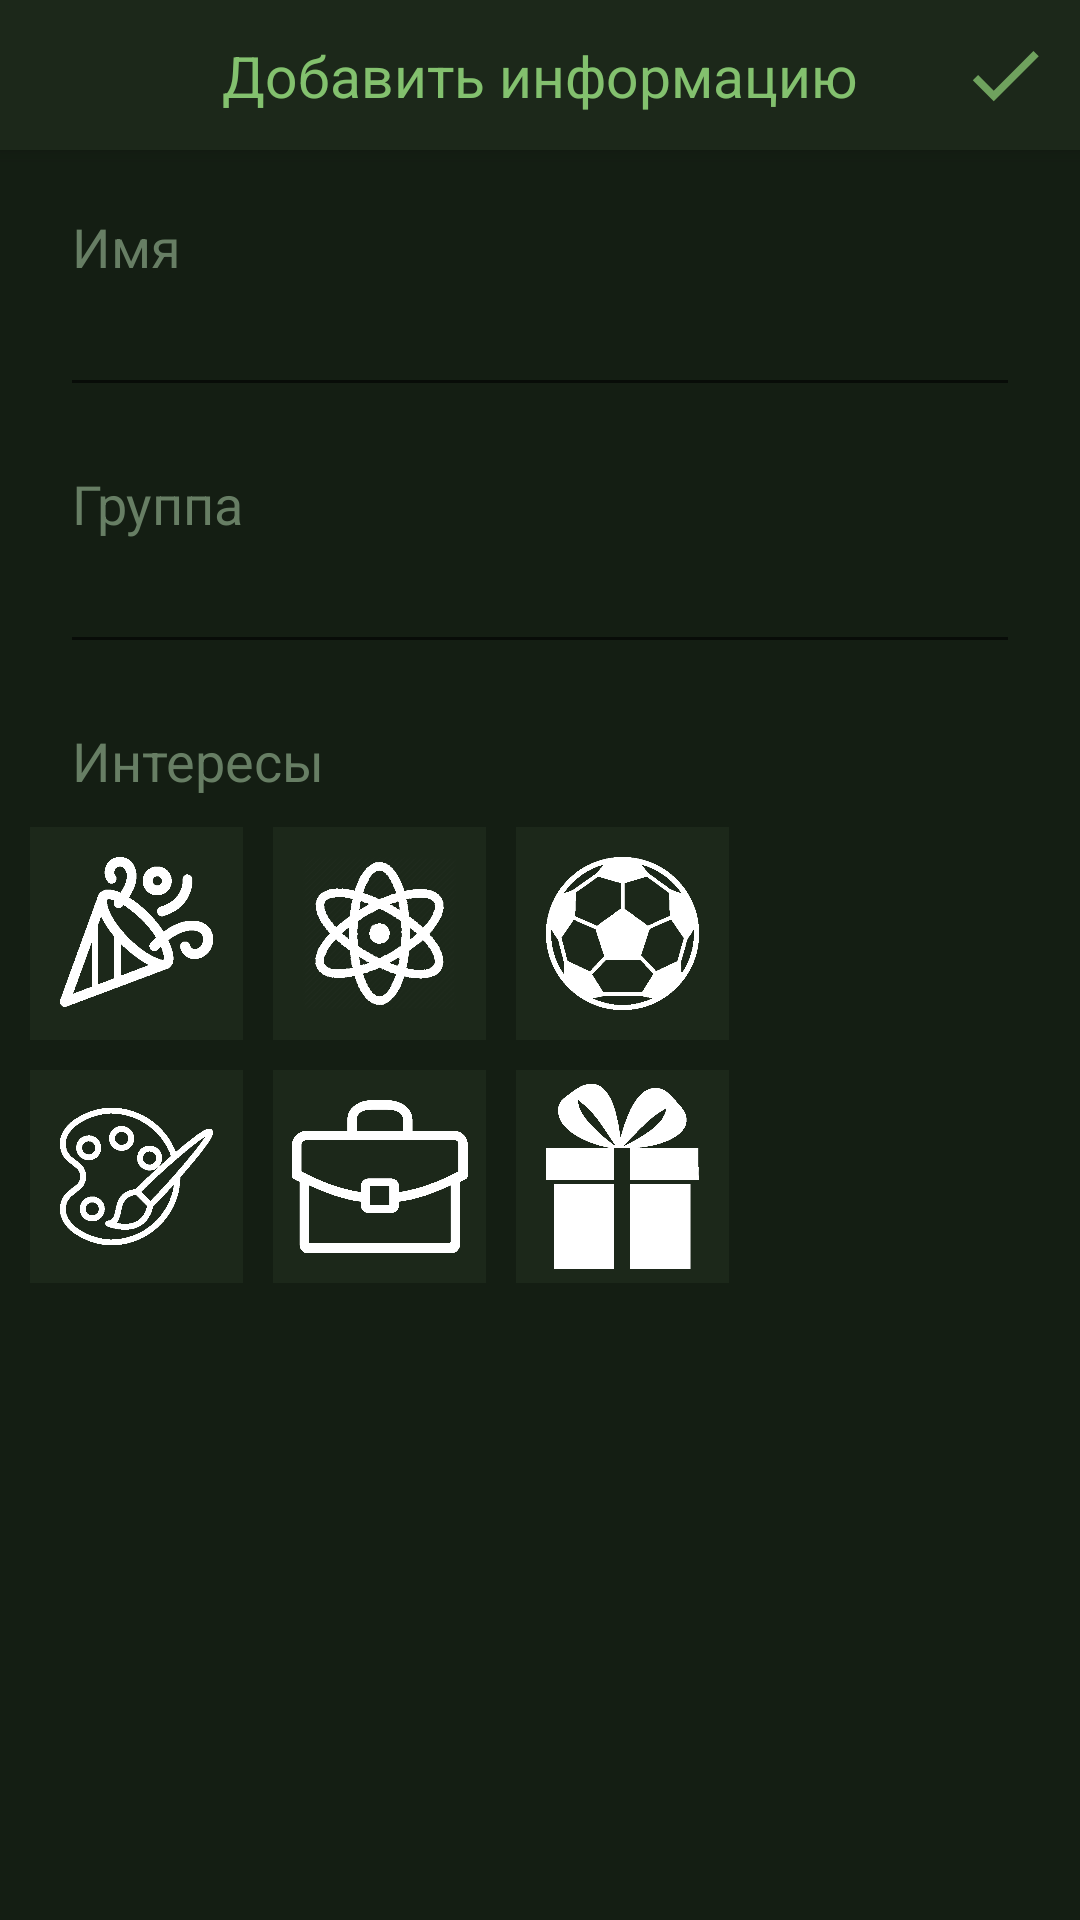

Screen size 1080px×1920px. Icon name, then its box in pixels as (x1, y1, x2, y2):
art: (30, 1070, 243, 1283)
check: (973, 51, 1039, 101)
party: (30, 827, 243, 1040)
science: (273, 827, 486, 1040)
sport: (516, 827, 729, 1040)
work: (273, 1070, 486, 1283)
